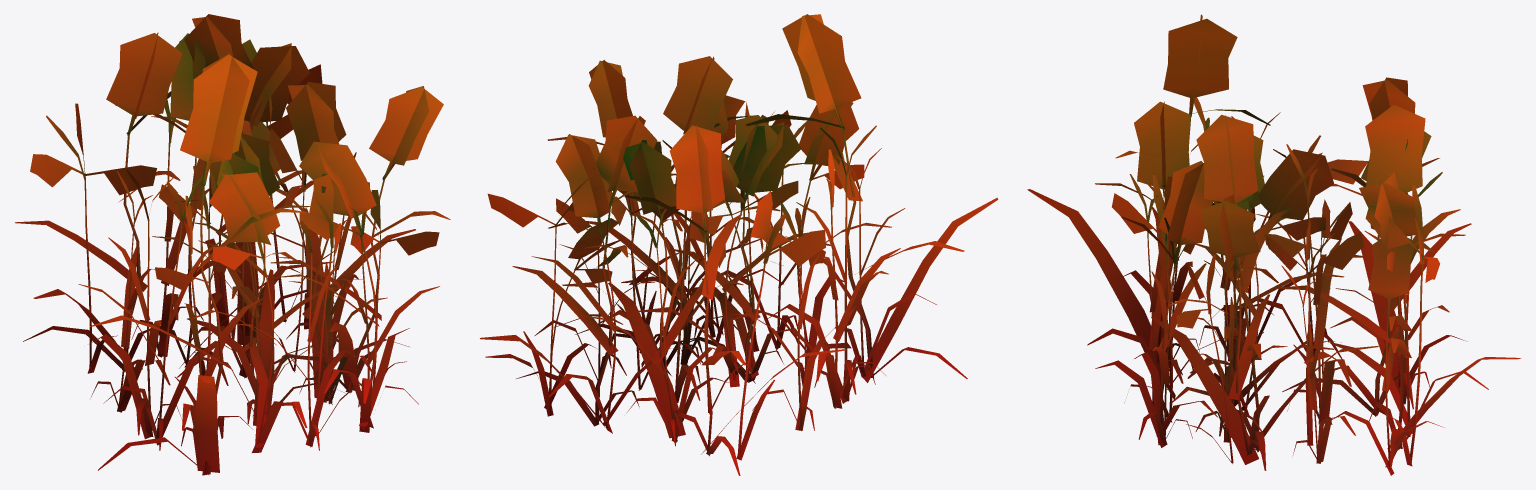
Rendered from SM_Oat_3.fbx.
3 views of the same model, side by side, from view 1: azimuth 30°, elevation 25°; view 2: azimuth 150°, elevation 25°; view 3: azimuth 270°, elevation 25° (orthographic). The views are drawn at different scales.
Parts seen in each view (by area): view 1: SM_Oat_3; view 2: SM_Oat_3; view 3: SM_Oat_3.
Boxes of the visible parts, x1=… form: SM_Oat_3: x1=15, y1=14, x2=450, y2=475; SM_Oat_3: x1=480, y1=14, x2=998, y2=475; SM_Oat_3: x1=1027, y1=14, x2=1521, y2=475.
Bounding box in the file's own units: 1.57 × 1.51 × 1.8.
